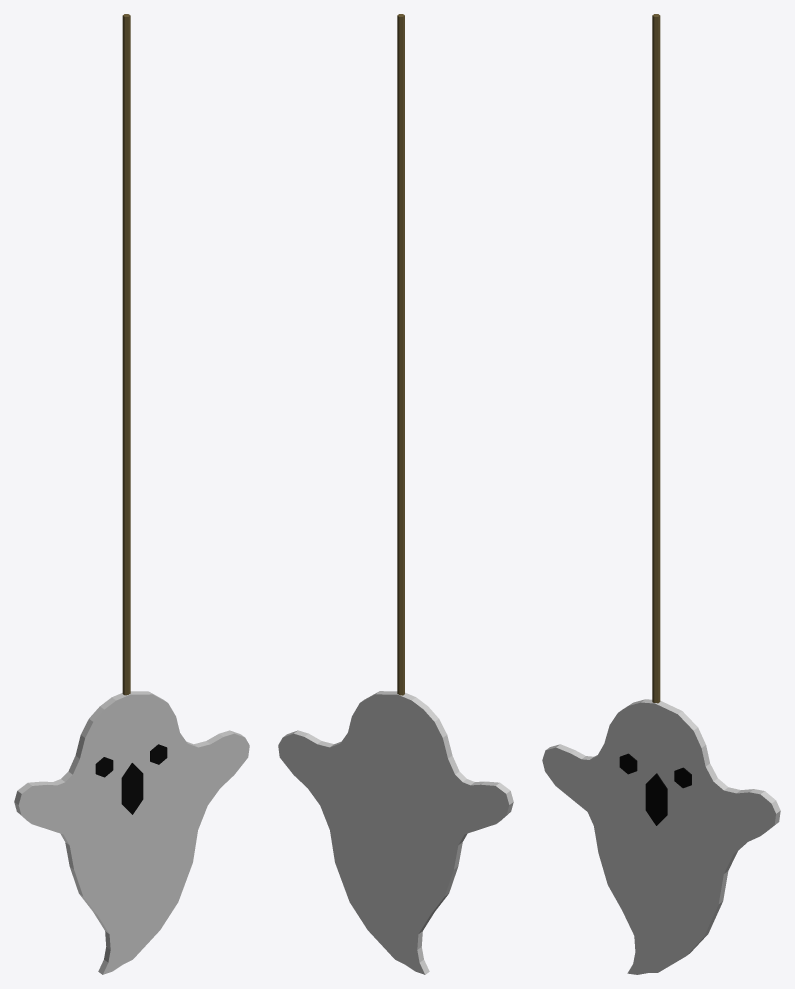
File: Cartoon_Ghost_Low_Poly.obj
3 views of the same model, side by side, from view 1: azimuth 30°, elevation 25°; view 2: azimuth 150°, elevation 25°; view 3: azimuth 330°, elevation 25° (orthographic).
Visible parts, largest first — view 1: Ghost_Plane, String_Cylinder.003; view 2: Ghost_Plane, String_Cylinder.003; view 3: Ghost_Plane, String_Cylinder.003.
Part boxes in pixels (x1,y1,x2,y2): Ghost_Plane: (14, 691, 249, 974); String_Cylinder.003: (122, 14, 130, 695); Ghost_Plane: (278, 691, 513, 974); String_Cylinder.003: (397, 14, 404, 695); Ghost_Plane: (542, 699, 780, 974); String_Cylinder.003: (652, 14, 660, 703).
Bounding box in the file's own units: 0.8914 × 3.51 × 0.0346.
